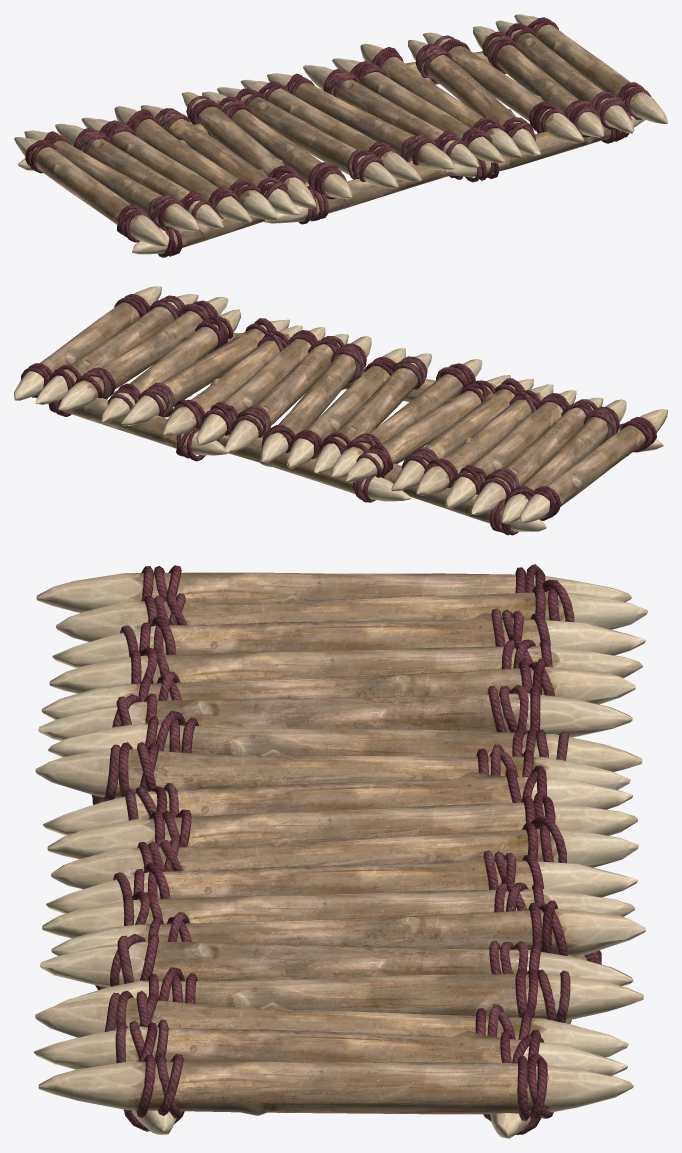
3 views of the same model, one above another, from view 1: azimuth 30°, elevation 25°; view 2: azimuth 150°, elevation 25°; view 3: azimuth 270°, elevation 25° (orthographic). The views are drawn at different scales.
Visible parts, largest first — view 1: SM_Garou_Set_SM_LogPlatform_4x8_LOD0; view 2: SM_Garou_Set_SM_LogPlatform_4x8_LOD0; view 3: SM_Garou_Set_SM_LogPlatform_4x8_LOD0.
Part boxes in pixels (left/top/right/bottom): SM_Garou_Set_SM_LogPlatform_4x8_LOD0: left=14, top=14, right=667, bottom=257; SM_Garou_Set_SM_LogPlatform_4x8_LOD0: left=14, top=286, right=667, bottom=535; SM_Garou_Set_SM_LogPlatform_4x8_LOD0: left=34, top=564, right=647, bottom=1138.
Size of the model in its own units: 8.1 by 0.7543 by 4.03.
1 material, 1 textured.
